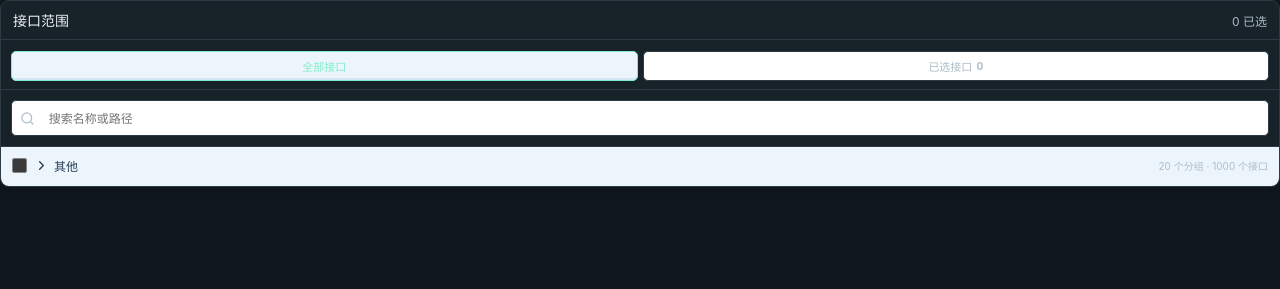
Test: EndpointTree › does not render a thousand endpoint rows until a group or search result is opened
The width and height of the screenshot is (1280, 289).
In the field with test id "endpoint-search": (650,118) [41,101,1260,135], type "/large-list/999"
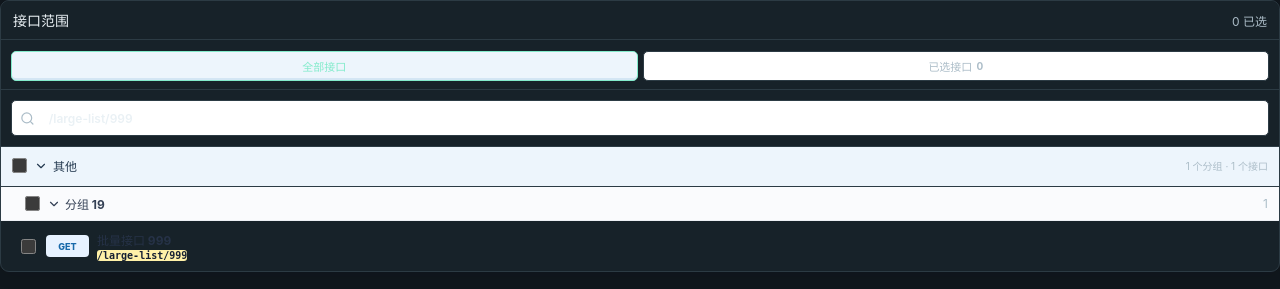
Expected: the number of labels with class "endpoint-row" is 1, [1,220,1279,271]
Expected: the text "批量接口 999" is shown, [97,233,171,248]
